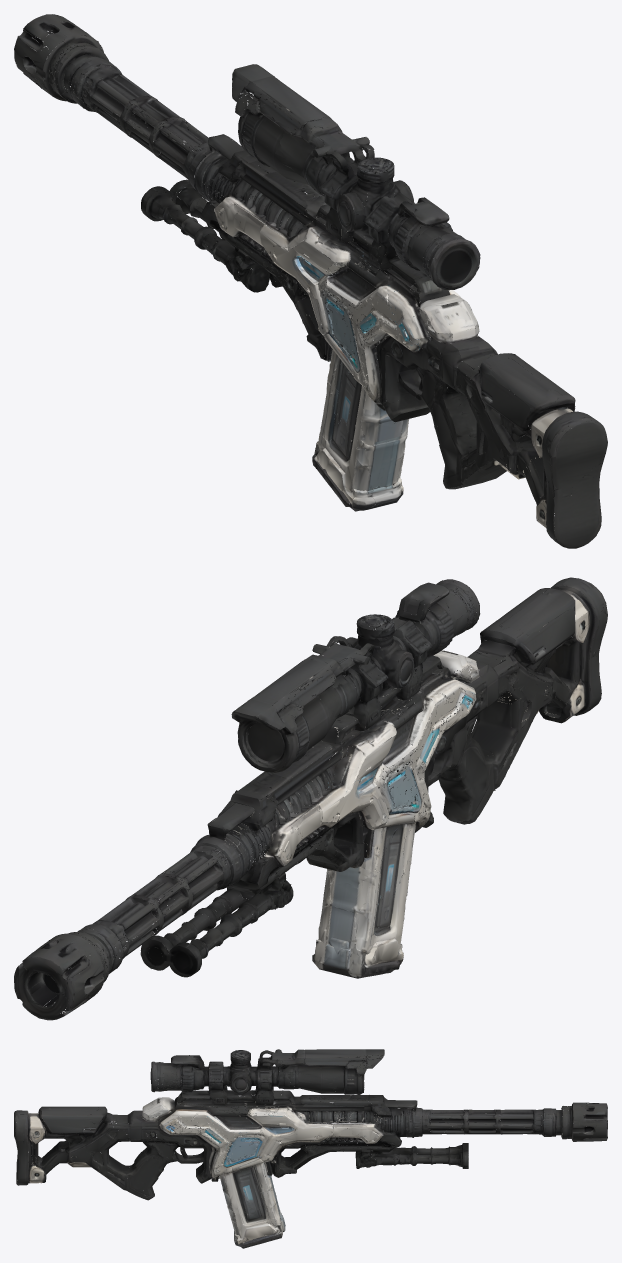
Rendered from em86d_viewmodel_reload.glb.
3 views of the same model, one above another, from view 1: azimuth 30°, elevation 25°; view 2: azimuth 150°, elevation 25°; view 3: azimuth 270°, elevation 25° (orthographic). The views are drawn at different scales.
Parts seen in each view (by area): view 1: Body, DetachableMagazine; view 2: Body, DetachableMagazine; view 3: Body, DetachableMagazine.
Part boxes in pixels (left/top/right/bottom): Body: left=14, top=14, right=607, bottom=548; DetachableMagazine: left=312, top=320, right=409, bottom=511; Body: left=14, top=577, right=607, bottom=1020; DetachableMagazine: left=312, top=804, right=429, bottom=978; Body: left=14, top=1049, right=607, bottom=1200; DetachableMagazine: left=214, top=1148, right=285, bottom=1248.
Bounding box in the file's own units: 0.0757 × 0.3855 × 1.08.
Materials: 1 (1 with a texture image).
